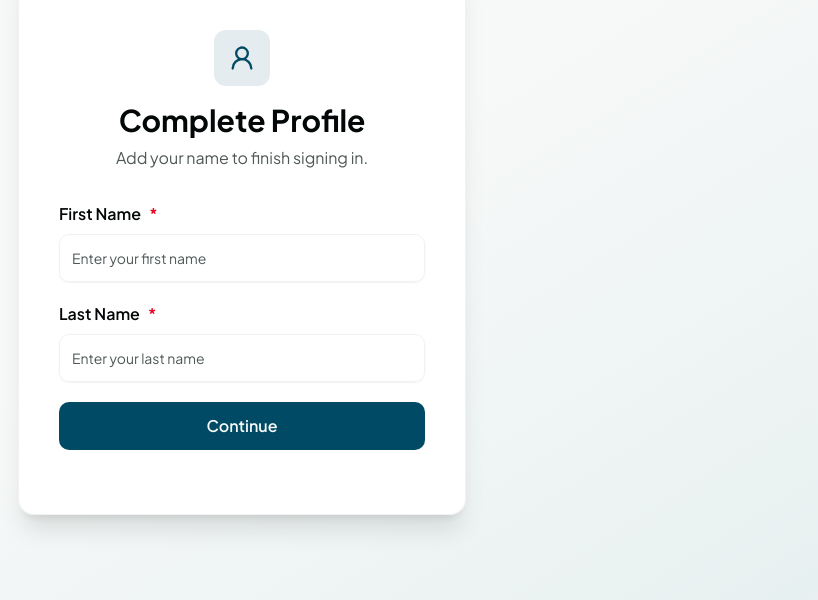
Test case: CompleteProfilePage › shows error when last name is too short
Type "John" into the field labelled "First Name *" at [242, 258], box [59,234,425,282]
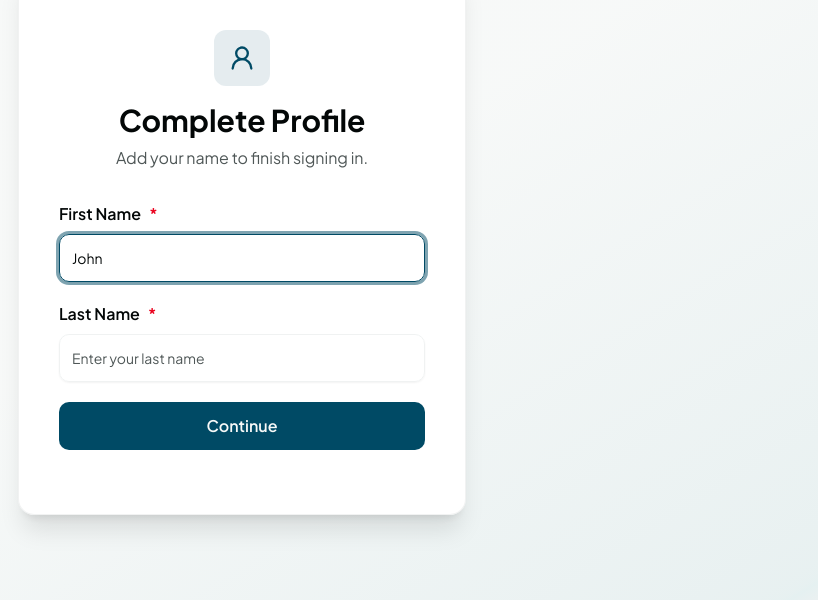
Type "D" into the field labelled "Last Name *" at [242, 358], box [59,334,425,382]
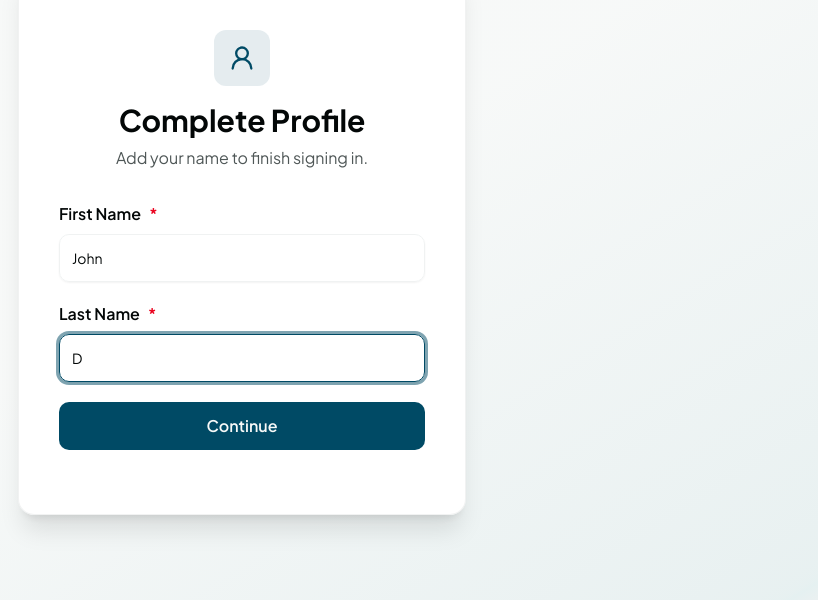
Click the button "Continue" at [242, 426], box [59,402,425,450]
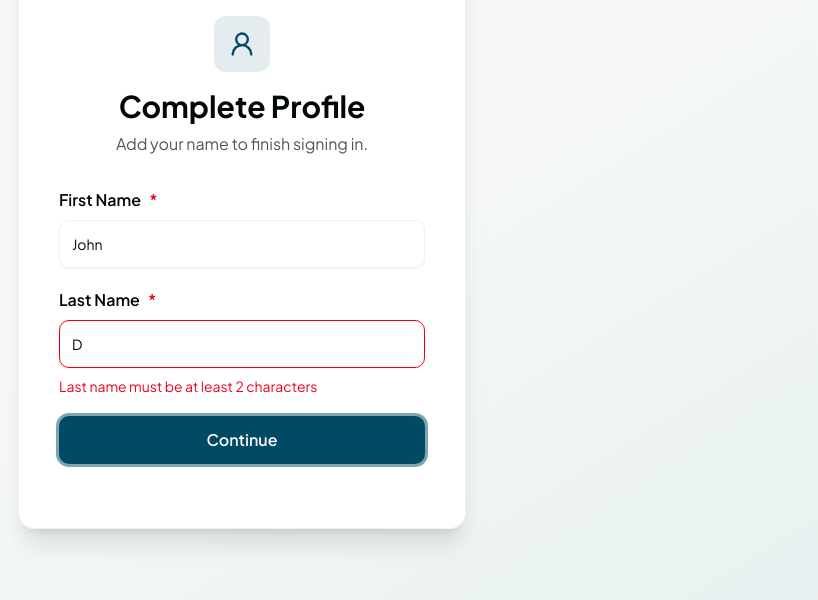
Expected: the text "Last name must be at least 2 characters" is shown, [59,377,317,395]
